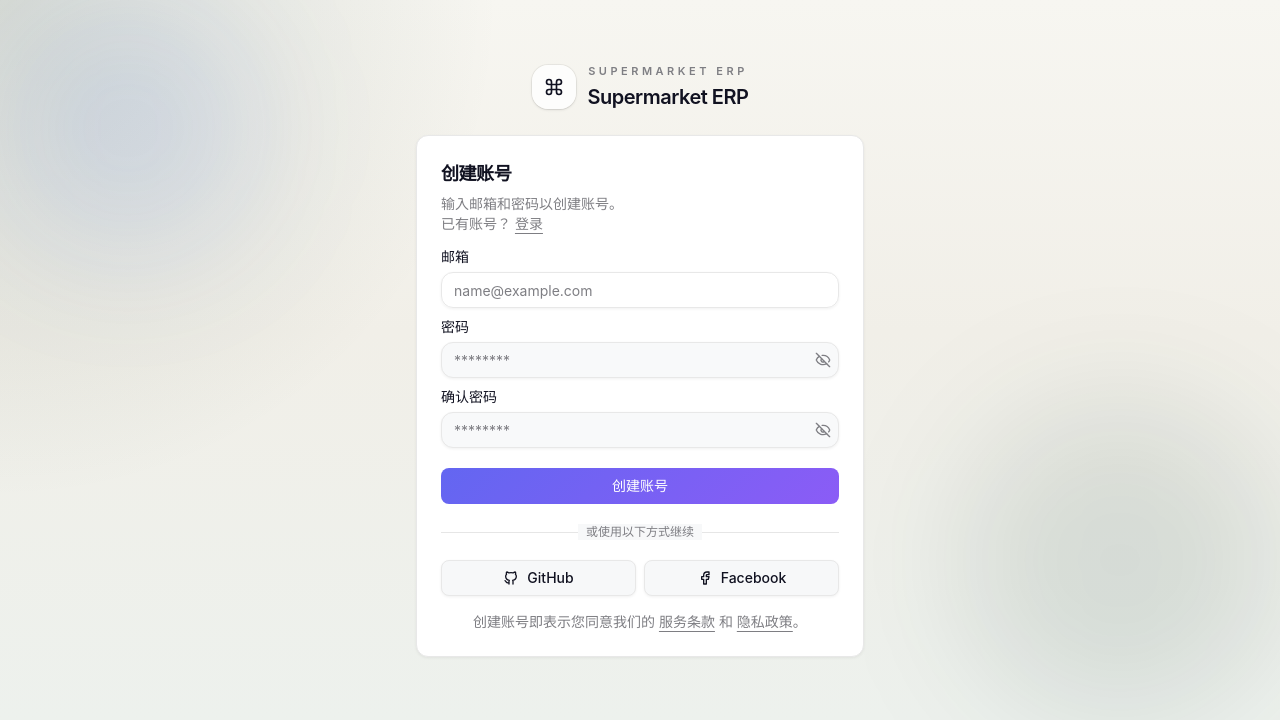
secondary auth pages i18n › shows localized validation on the sign up form
Click the button "创建账号" at (640, 486), box [441, 468, 839, 504]
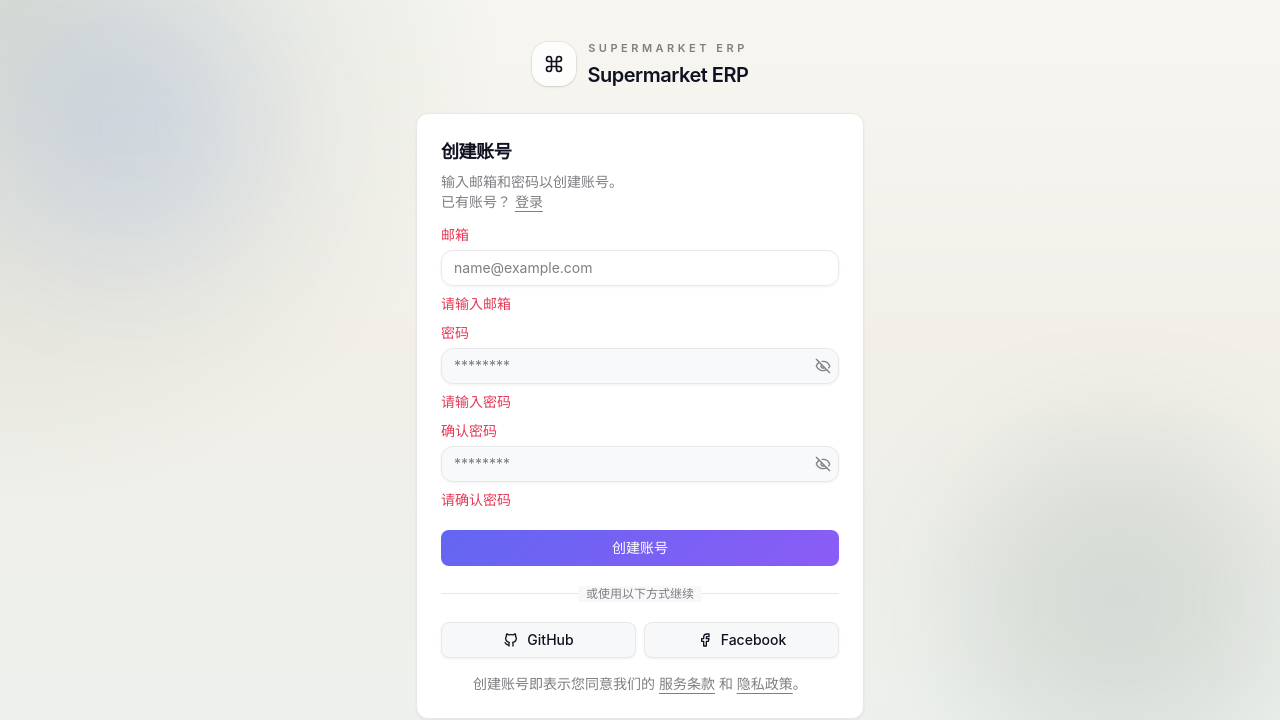
Result: the text "请输入邮箱" is shown at [441, 294, 511, 312]
Result: the text "请输入密码" is shown at [441, 392, 511, 410]
Result: the text "请确认密码" is shown at [441, 490, 511, 508]
